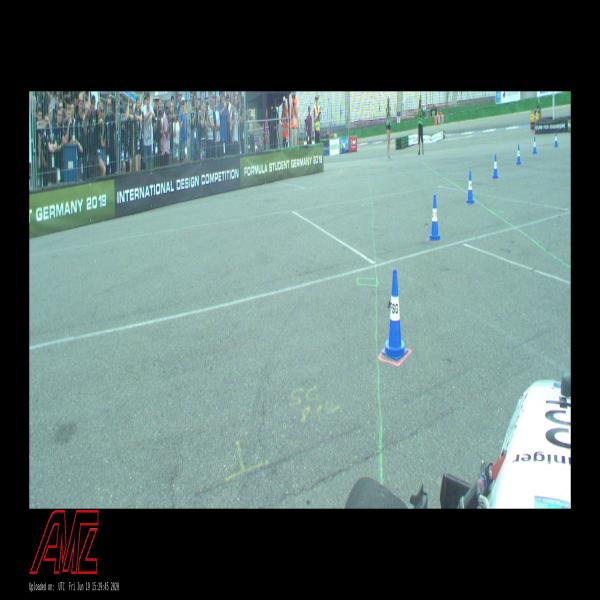blue_cone: (381, 270, 408, 360), (428, 196, 442, 240), (466, 171, 474, 203), (492, 155, 498, 178), (516, 145, 521, 164), (532, 137, 537, 153), (554, 132, 558, 146)
